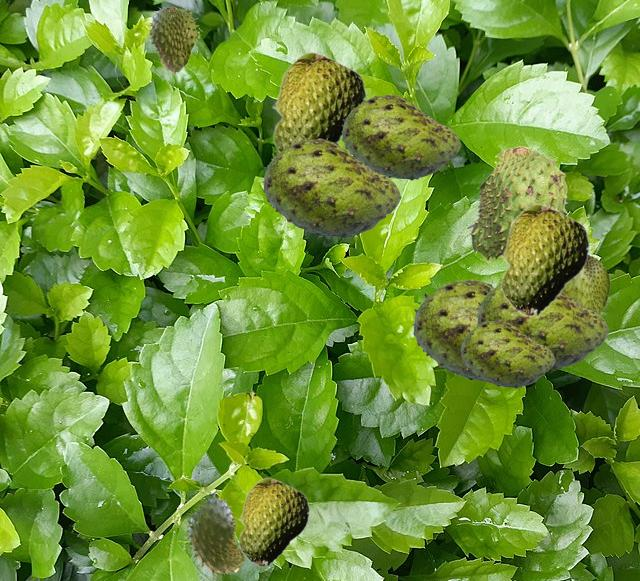guyabano: (262, 138, 400, 237), (466, 146, 567, 260), (476, 283, 608, 369), (499, 203, 589, 317), (341, 94, 460, 179), (271, 51, 366, 152), (412, 279, 493, 381), (237, 477, 309, 567), (460, 320, 554, 387), (184, 494, 244, 579), (147, 6, 201, 73), (563, 254, 609, 315)
